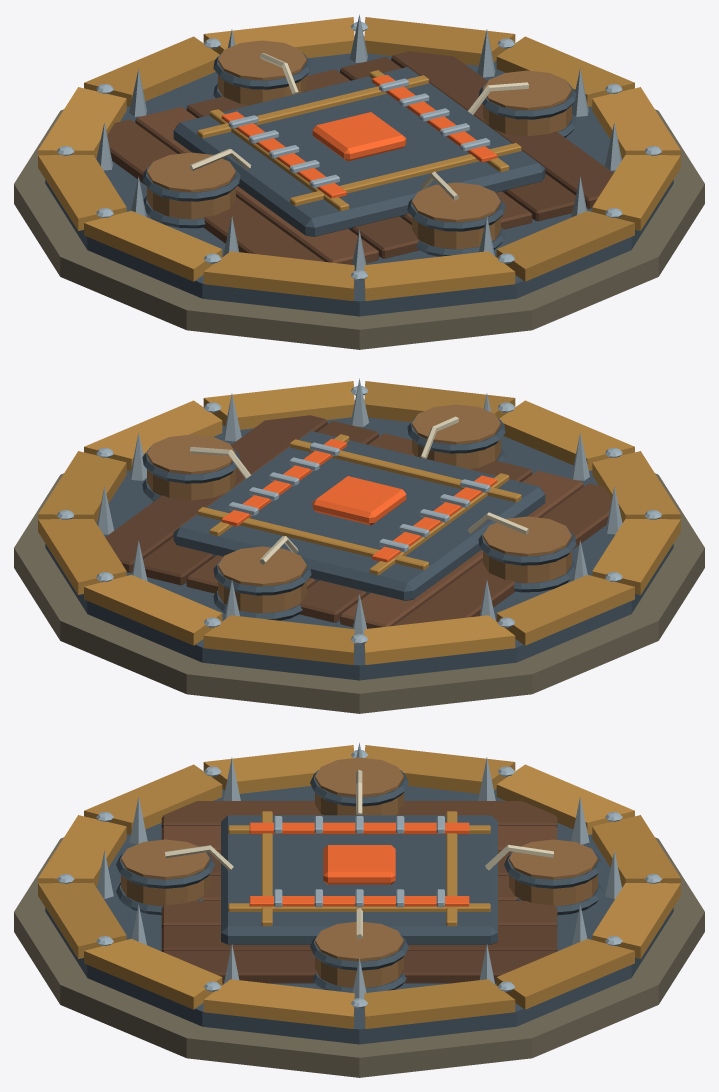
The model's file is trap__explosiva__L15.glb.
3 renders of one model, top to bottom at view 1: azimuth 30°, elevation 25°; view 2: azimuth 150°, elevation 25°; view 3: azimuth 270°, elevation 25°, orthographic.
Parts seen in each view (by area): view 1: structure, weapon; view 2: structure, weapon; view 3: structure, weapon.
Part boxes in pixels (box(x1,y1,x2,y2)): structure: box(14, 17, 704, 349); weapon: box(96, 14, 621, 270); structure: box(14, 381, 704, 713); weapon: box(97, 378, 622, 634); structure: box(14, 745, 704, 1077); weapon: box(97, 742, 621, 998).
Size of the model in its own units: 0.8228 by 0.1139 by 0.8228.
